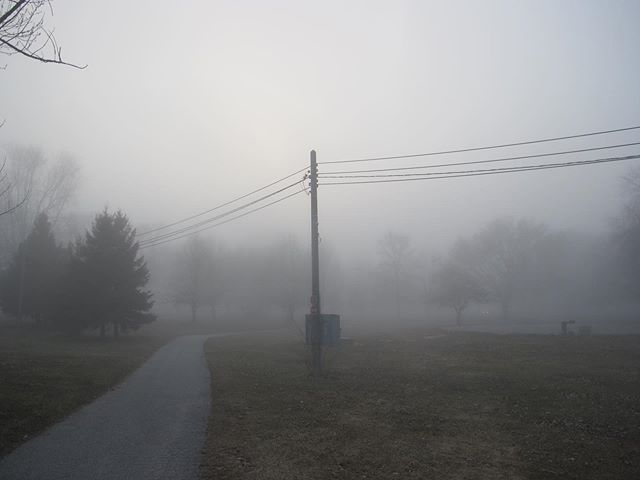grass: (216, 327, 640, 480)
sky: (51, 1, 640, 191)
tree: (67, 209, 154, 328), (1, 207, 64, 327)
